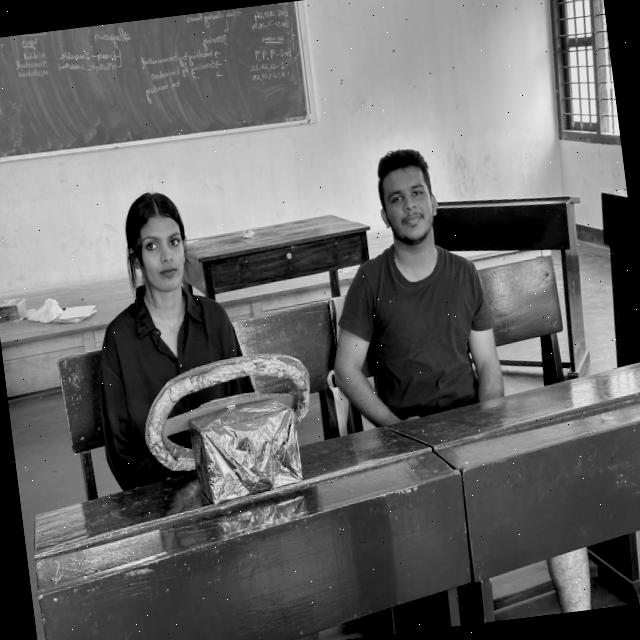Helmet: (75, 282, 262, 509), (326, 242, 506, 435)
